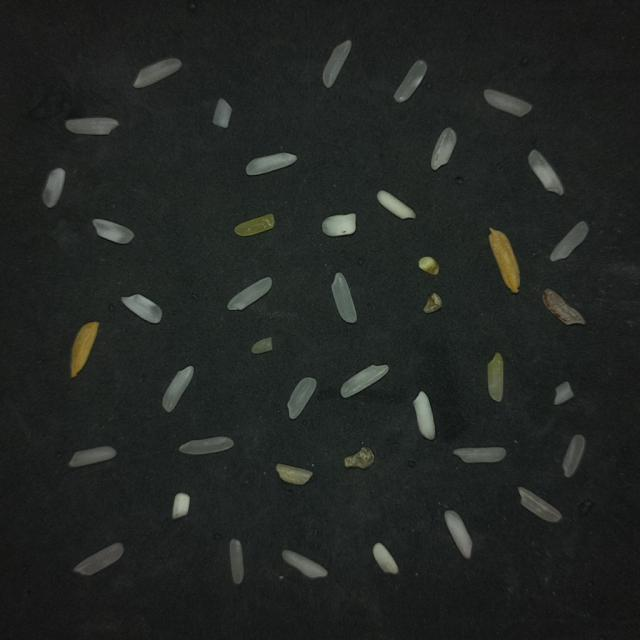broken: (122, 294, 162, 323), (431, 128, 456, 170), (93, 219, 134, 244), (42, 168, 65, 208), (373, 543, 398, 574), (213, 99, 232, 128), (554, 382, 574, 404), (252, 337, 272, 354)
chalky: (529, 150, 564, 195), (445, 510, 472, 558), (246, 152, 297, 175), (377, 190, 415, 219), (414, 391, 435, 439), (322, 214, 356, 236), (172, 493, 189, 519)
damaged: (344, 447, 374, 469)
discolored: (235, 214, 274, 236), (276, 464, 312, 485), (488, 352, 503, 402), (419, 257, 439, 274), (424, 293, 441, 313)
paddy: (489, 228, 519, 293), (71, 322, 99, 378)
red: (543, 289, 585, 324)
whole: (74, 543, 123, 575), (341, 365, 388, 398), (518, 487, 561, 522), (550, 222, 588, 261), (163, 366, 194, 412), (228, 277, 272, 309), (394, 60, 427, 102), (134, 59, 181, 88), (323, 40, 351, 88), (484, 90, 531, 117), (282, 550, 327, 578), (332, 272, 356, 323), (288, 377, 316, 419), (69, 446, 116, 468), (563, 435, 585, 478), (179, 437, 233, 454), (65, 118, 118, 135), (453, 447, 506, 463), (230, 539, 244, 585)
